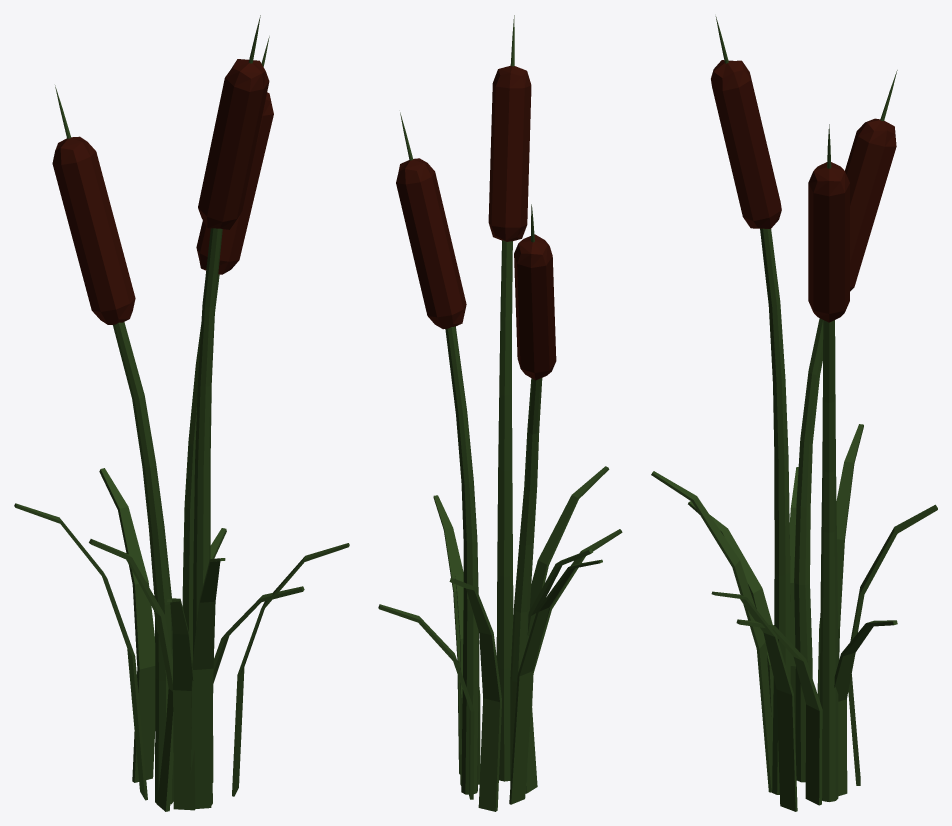
File: cattail.fbx
3 renders of one model, left to right at view 1: azimuth 30°, elevation 25°; view 2: azimuth 150°, elevation 25°; view 3: azimuth 270°, elevation 25°, orthographic. The views are drawn at different scales.
Parts seen in each view (by area): view 1: default; view 2: default; view 3: default.
Boxes of the visible parts, x1,y1,x2,y2 form: default: (14,15,349,811); default: (378,15,622,811); default: (651,16,937,811).
Size of the model in its own units: 4.47 by 13.25 by 4.37.
